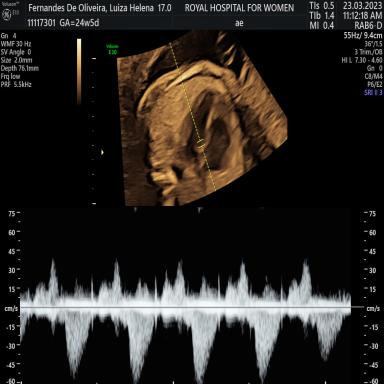Ultrasound-Waves: (24, 210, 350, 384)
